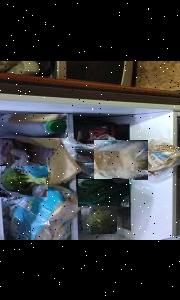Brocoli: (0, 165, 48, 196)
Judia verde: (78, 178, 129, 205)
Leche: (0, 112, 68, 136)
Lechuga/Endivia: (82, 205, 118, 233)
Pan de sandwich: (94, 138, 148, 178)
Pina: (0, 220, 24, 240)
